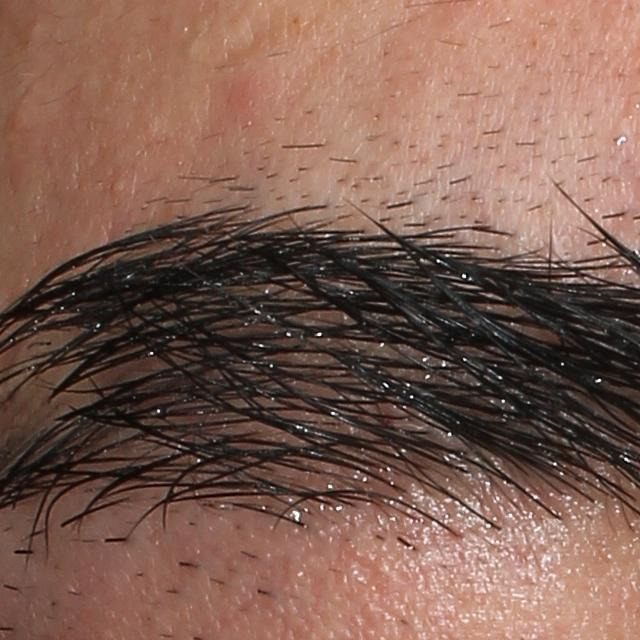comedo: (24, 19, 44, 38), (109, 178, 126, 194)
